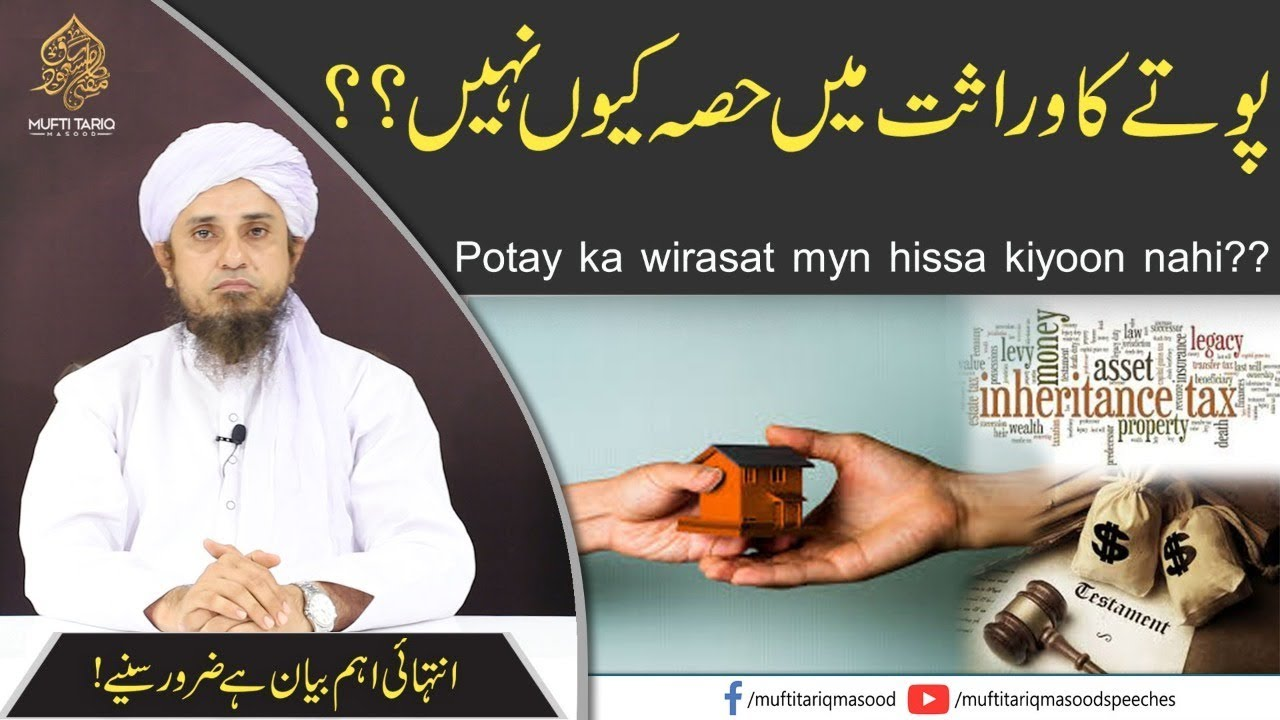NoMask: (183, 207, 286, 334)
